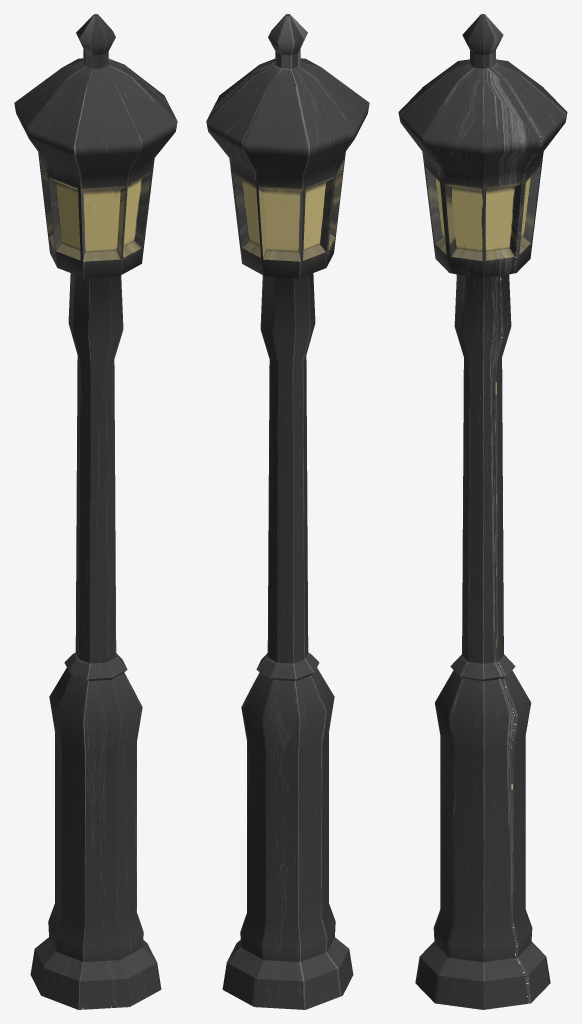
The model's file is farolachota.fbx.
3 views of the same model, side by side, from view 1: azimuth 30°, elevation 25°; view 2: azimuth 150°, elevation 25°; view 3: azimuth 270°, elevation 25° (orthographic).
Visible parts, largest first — view 1: Farola animal crossing; view 2: Farola animal crossing; view 3: Farola animal crossing.
Boxes of the visible parts, x1,y1,x2,y2 form: Farola animal crossing: (14, 14, 177, 1009); Farola animal crossing: (206, 14, 369, 1009); Farola animal crossing: (398, 14, 567, 1009).
Size of the model in its own units: 138 by 931 by 147.
Materials: 1 (1 with a texture image).
